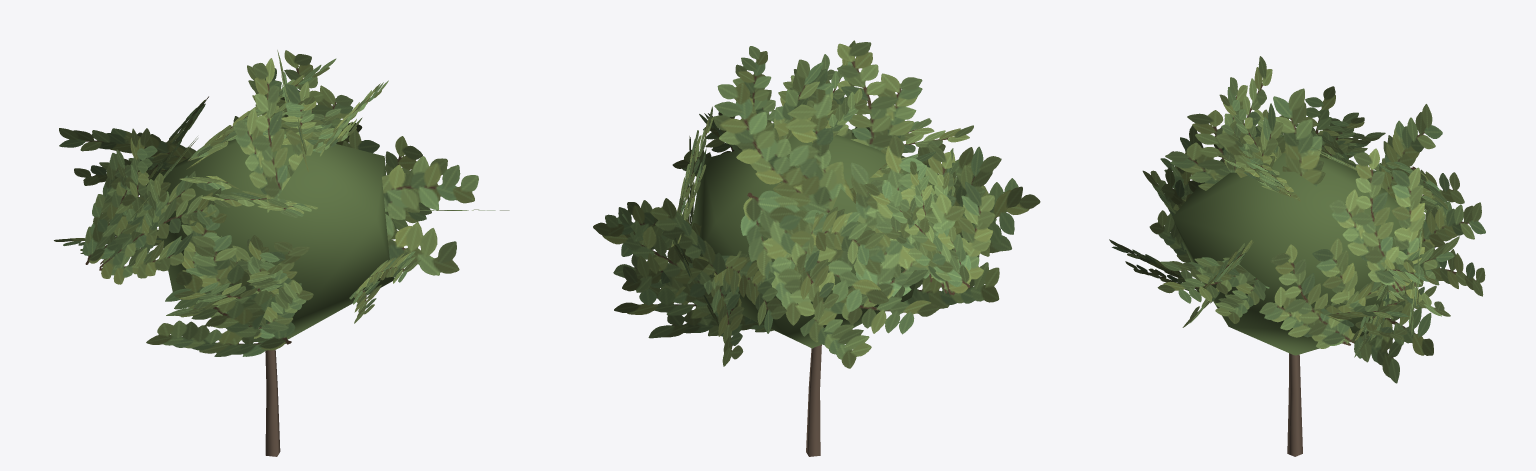
The model's file is PRUNUS_2.glb.
3 renders of one model, left to right at view 1: azimuth 30°, elevation 25°; view 2: azimuth 150°, elevation 25°; view 3: azimuth 270°, elevation 25°, orthographic. The views are drawn at different scales.
Parts seen in each view (by area): view 1: Arv_PRUNUS_lod2; view 2: Arv_PRUNUS_lod2; view 3: Arv_PRUNUS_lod2.
Boxes of the visible parts, x1,y1,x2,y2 form: Arv_PRUNUS_lod2: (54,50,509,456); Arv_PRUNUS_lod2: (593,40,1040,456); Arv_PRUNUS_lod2: (1109,56,1485,456).
Bounding box in the file's own units: 13.27 × 12.18 × 12.02.
Materials: 3 (1 with a texture image).
